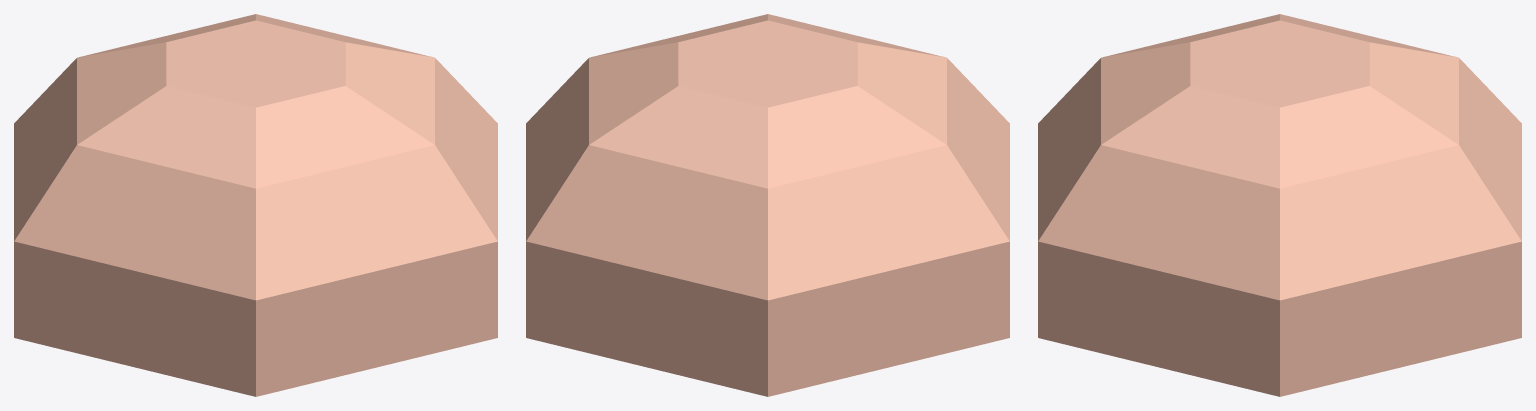
Rendered from meteor_half.glb.
The picture shows the model from 3 angles, left to right: view 1: azimuth 30°, elevation 25°; view 2: azimuth 150°, elevation 25°; view 3: azimuth 270°, elevation 25°; orthographic projection.
Visible parts, largest first — view 1: meteor_half; view 2: meteor_half; view 3: meteor_half.
Part boxes in pixels (x1,y1,x2,y2): meteor_half: (14, 14, 497, 396); meteor_half: (526, 14, 1009, 396); meteor_half: (1038, 14, 1521, 396).
Size of the model in its own units: 0.866 by 0.3675 by 0.75.
